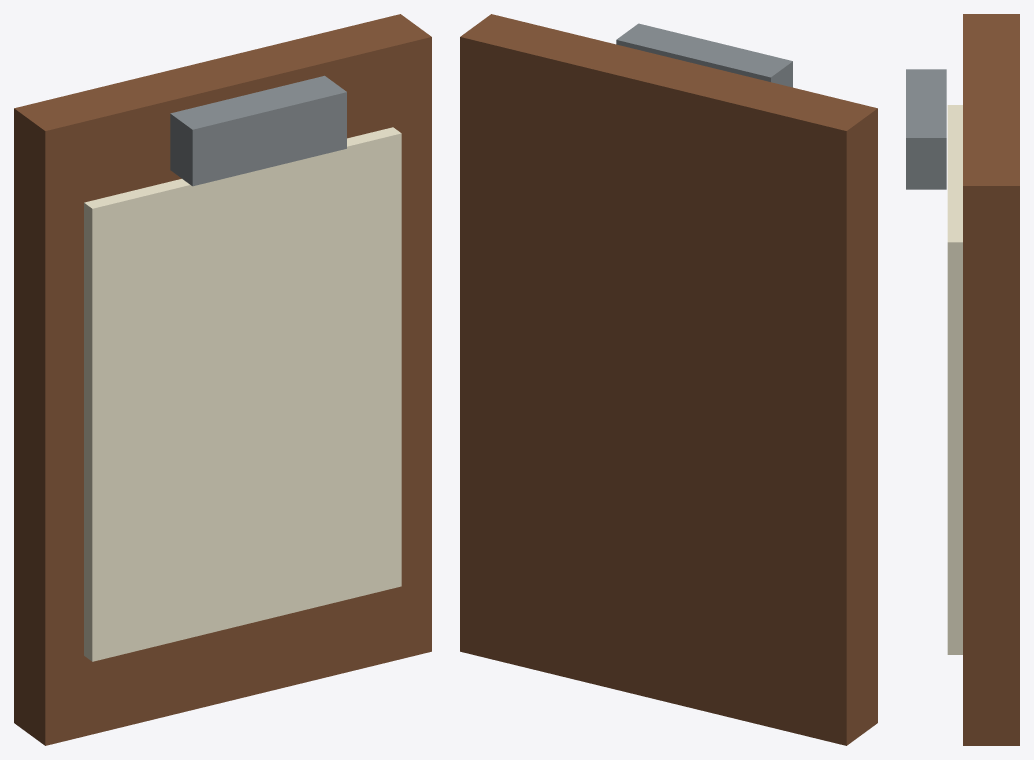
File: clipboard.glb
The picture shows the model from 3 angles, left to right: view 1: azimuth 30°, elevation 25°; view 2: azimuth 150°, elevation 25°; view 3: azimuth 270°, elevation 25°; orthographic projection. The views are drawn at different scales.
Visible parts, largest first — view 1: clipboard; view 2: clipboard; view 3: clipboard.
Part boxes in pixels (bbox=[...]): clipboard: bbox=[14, 14, 431, 745]; clipboard: bbox=[460, 14, 877, 745]; clipboard: bbox=[906, 14, 1019, 745].
Bounding box in the file's own units: 0.25 × 0.38 × 0.07.
